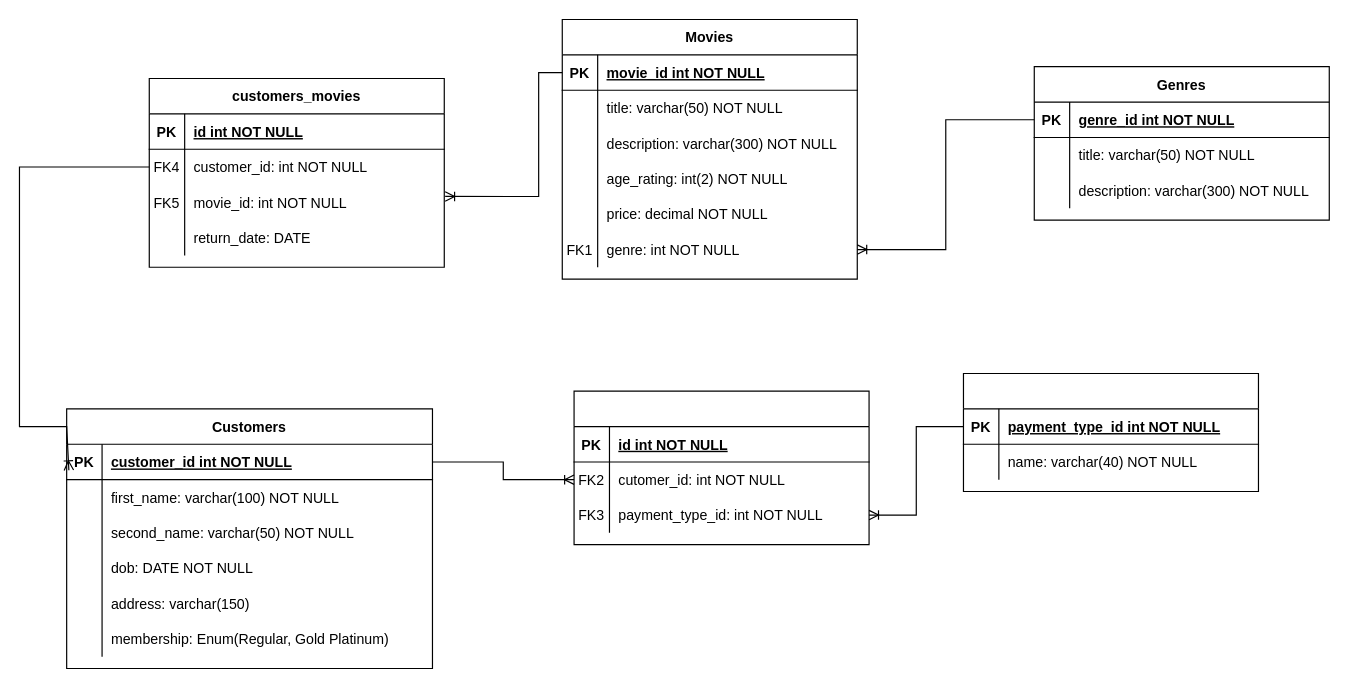
Image size: 1349x688. Some labels were removed from this diagram. Each missing label, with the box of its shape:
customers_payment_types: (573, 390, 869, 545)
Payment Types: (962, 372, 1258, 491)
